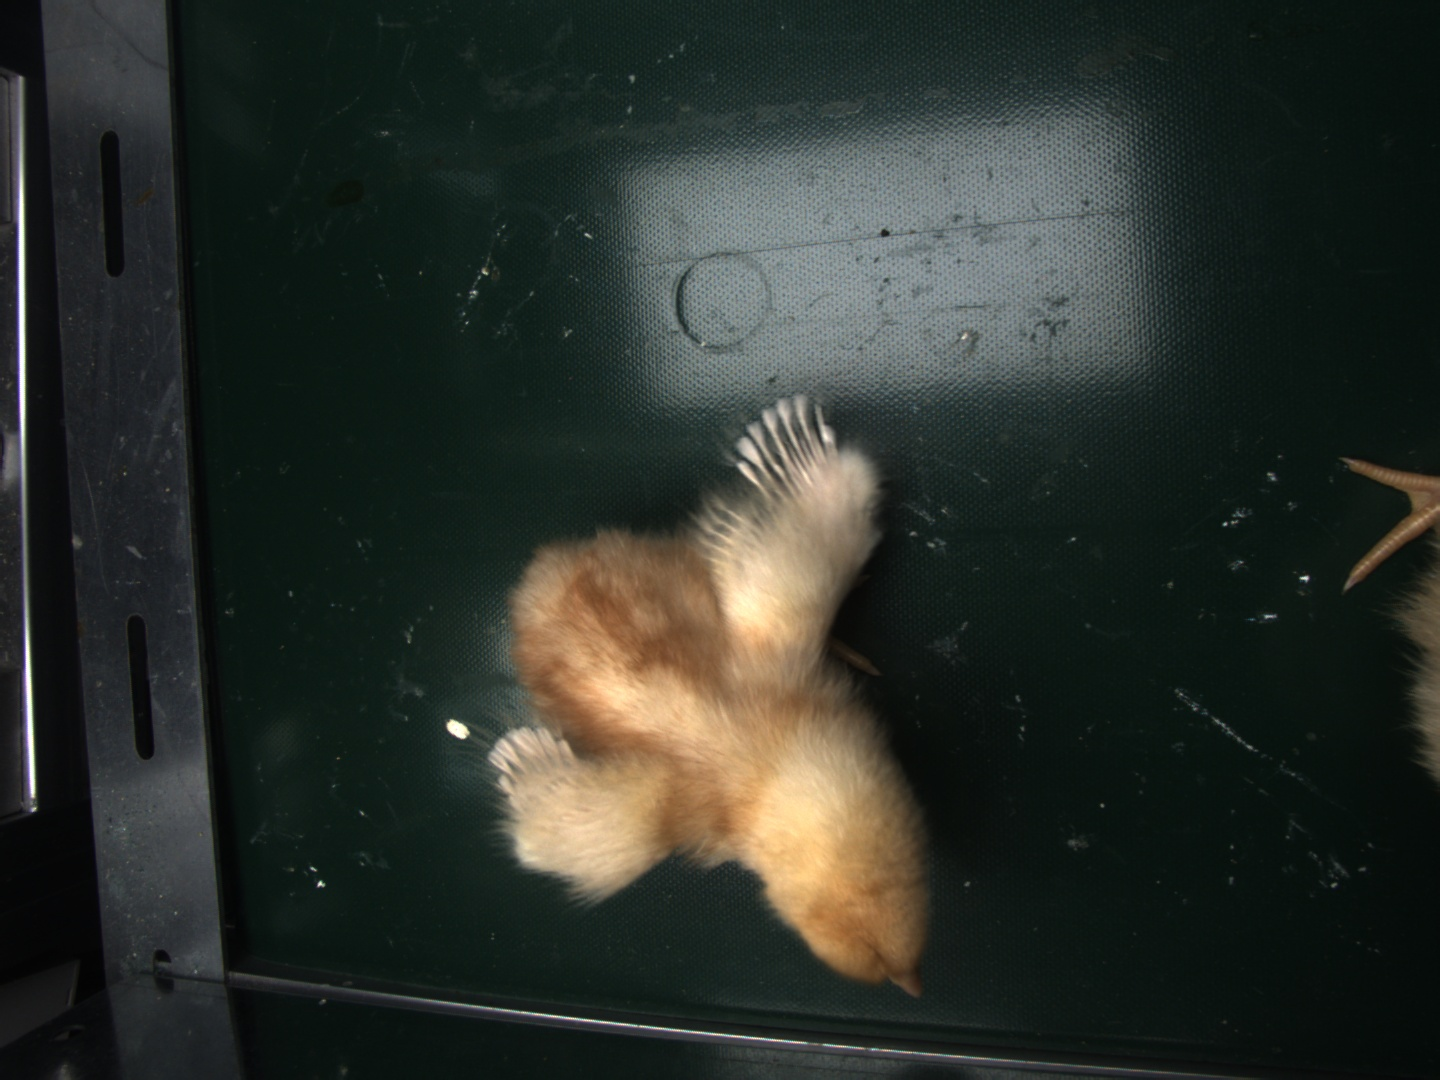female: (737, 396, 837, 500)
